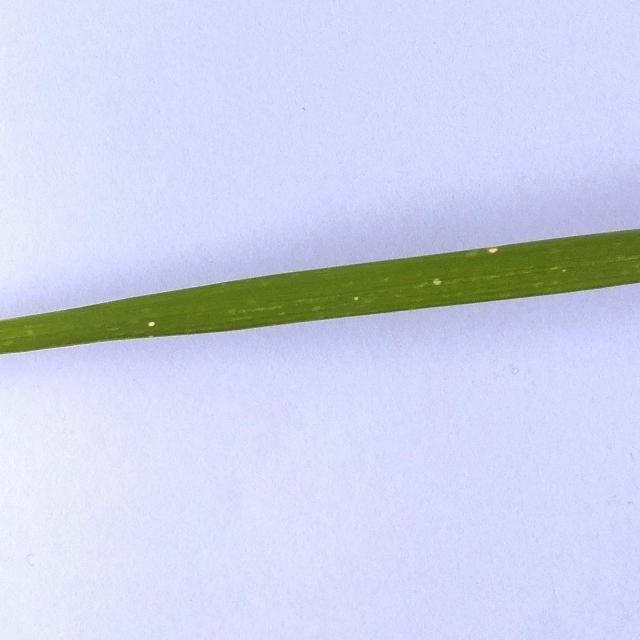Leaf blast: (0, 206, 640, 376)
